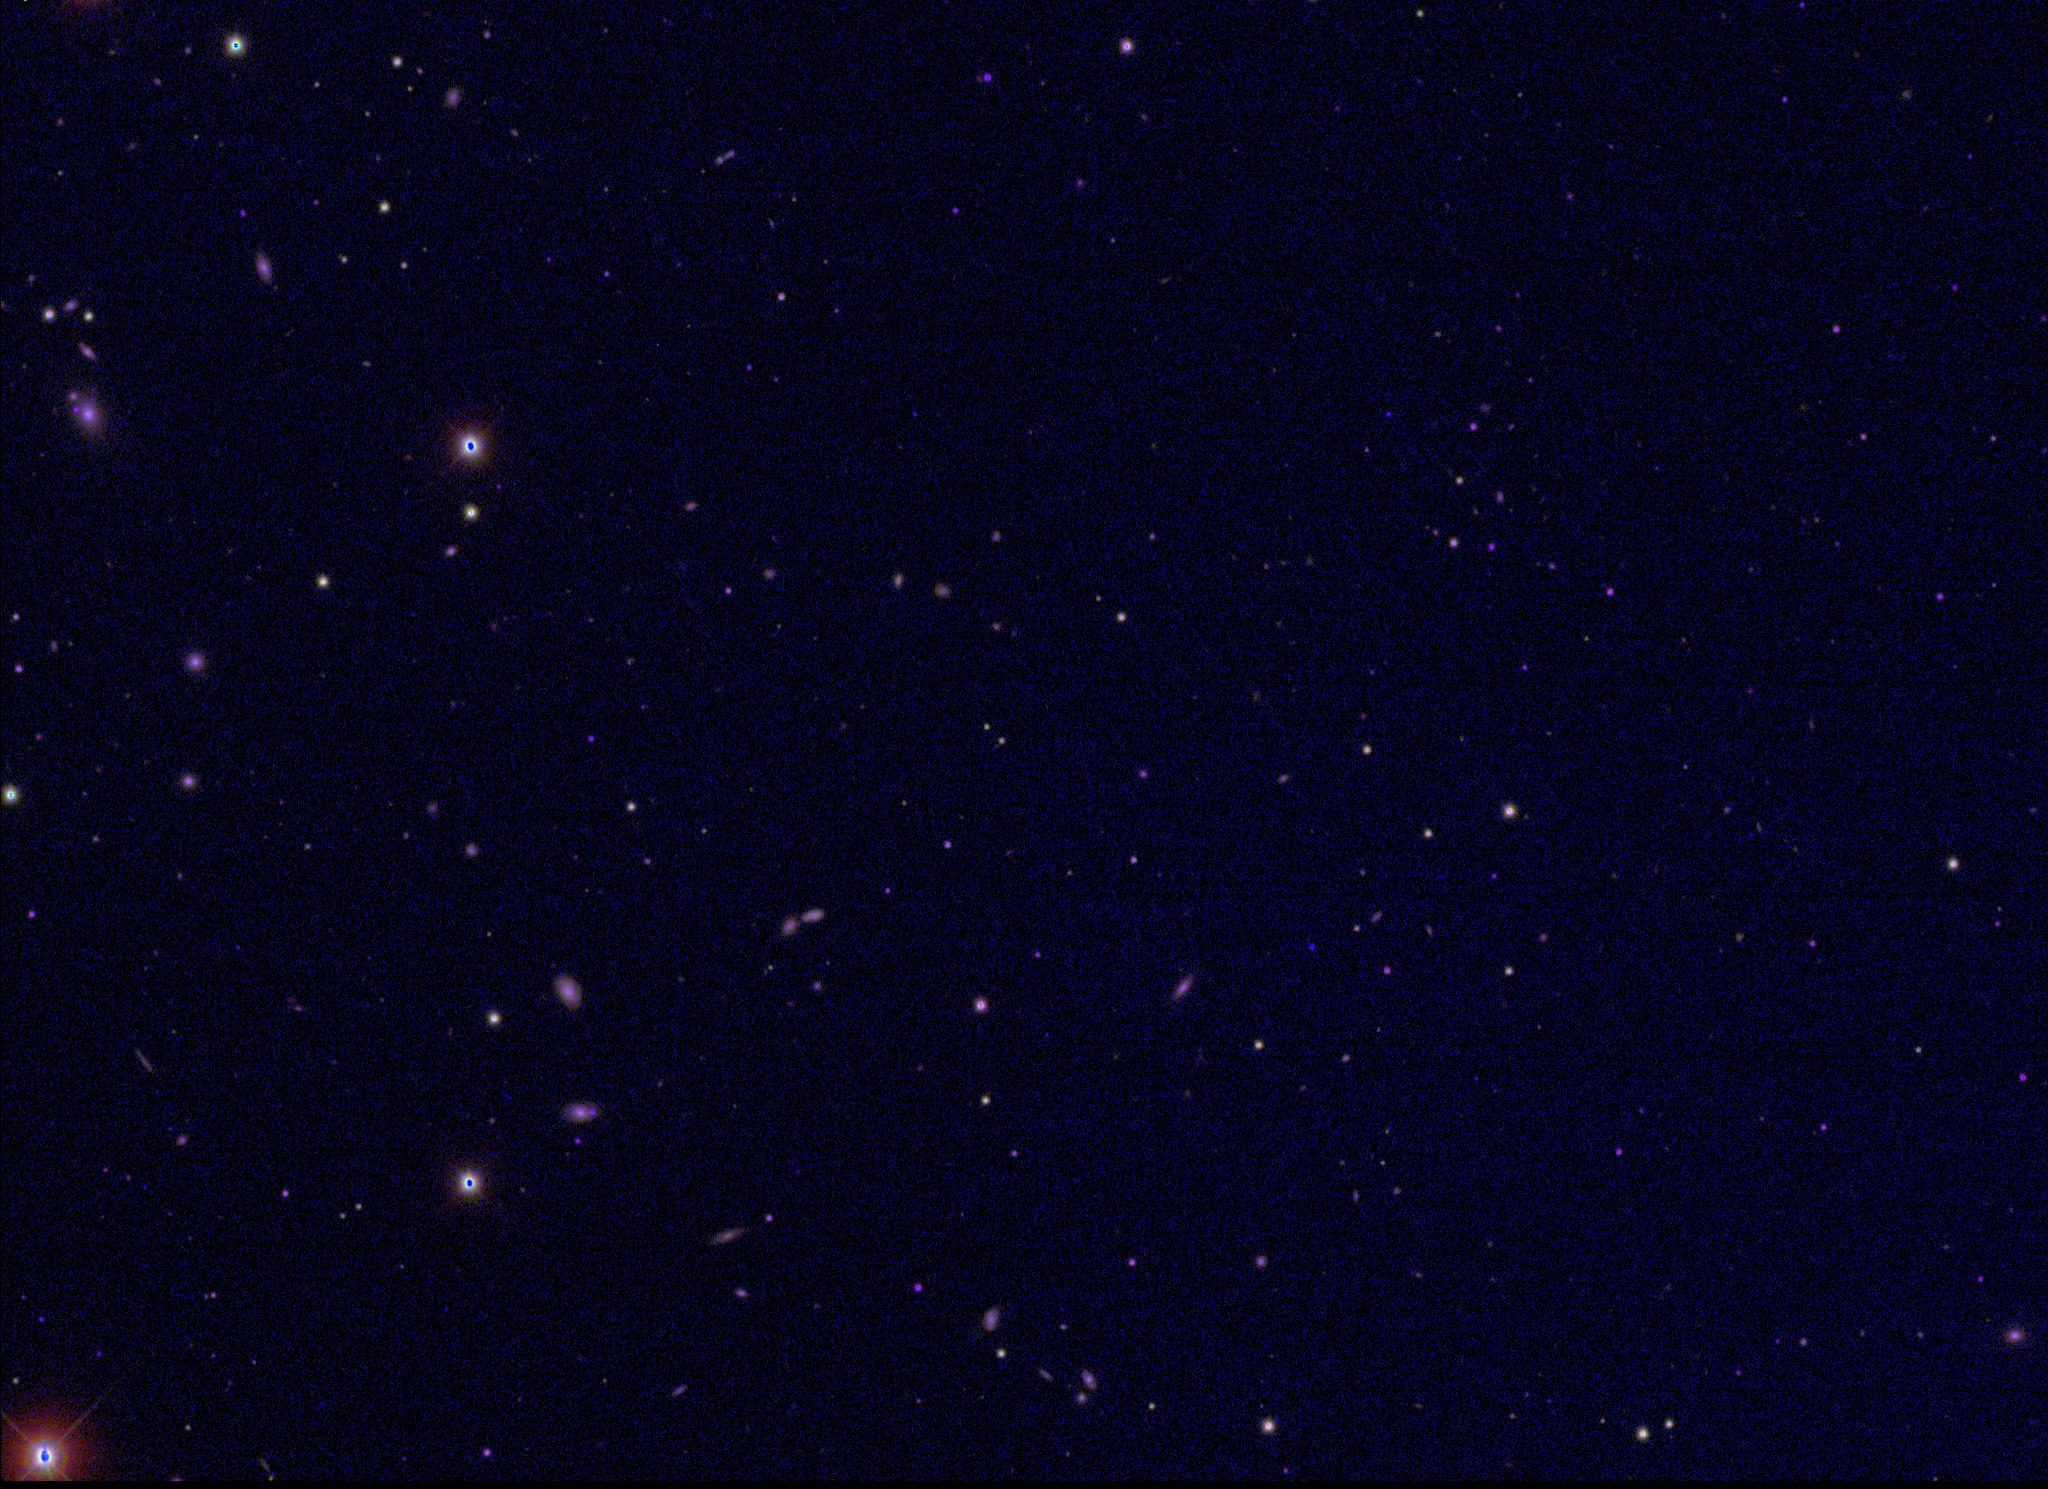L: (1305, 940, 1320, 954)
